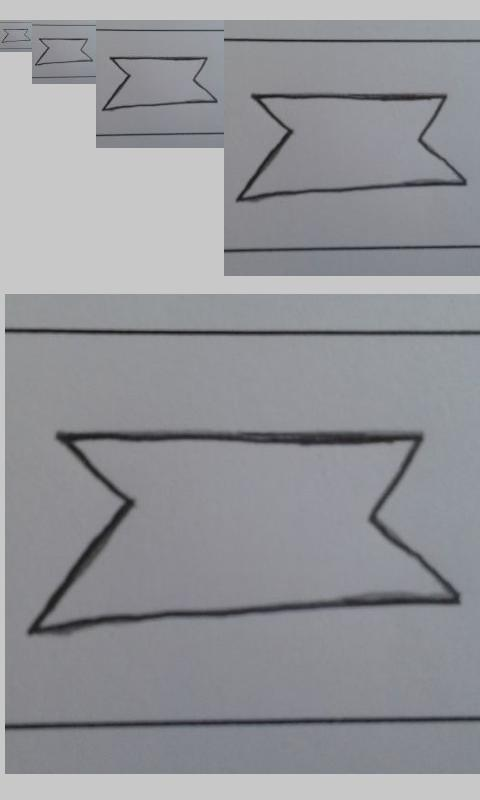edit_text: (25, 428, 459, 636), (237, 90, 467, 201), (102, 56, 218, 111), (34, 37, 93, 66), (1, 28, 31, 43)
